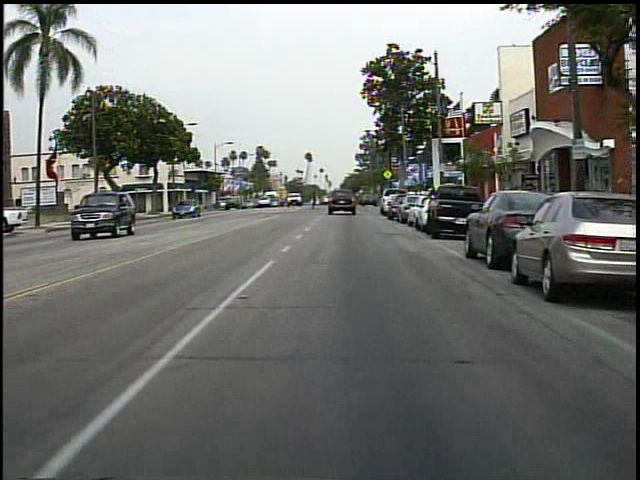person: (311, 186, 326, 215)
